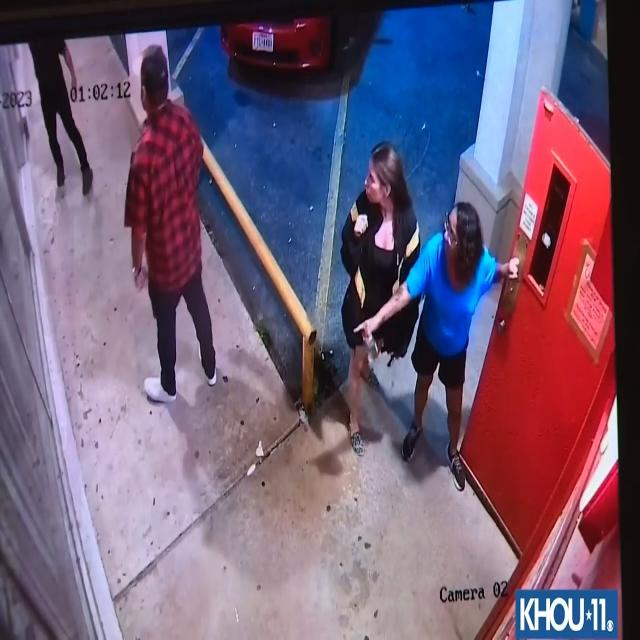Person: (120, 40, 229, 412), (332, 136, 416, 454), (408, 183, 487, 489), (24, 26, 96, 215)
